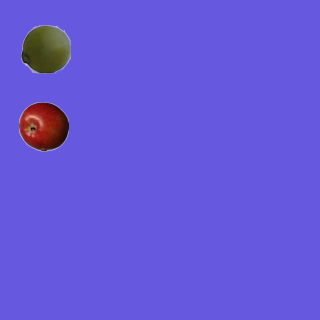Apple Braeburn: (18, 101, 68, 151)
Grape White 4: (20, 23, 70, 73)
